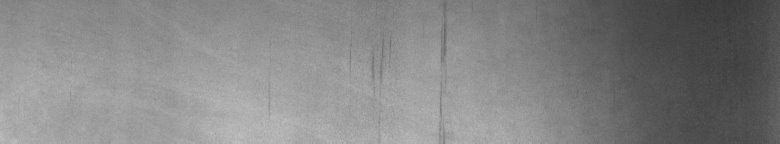ka: (369, 4, 450, 136)
